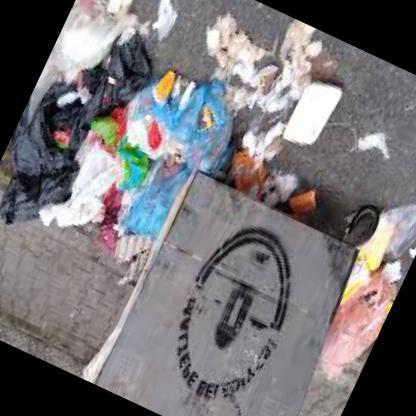Garbage: (0, 11, 237, 291), (9, 0, 155, 177), (324, 192, 415, 382), (266, 62, 352, 158)
